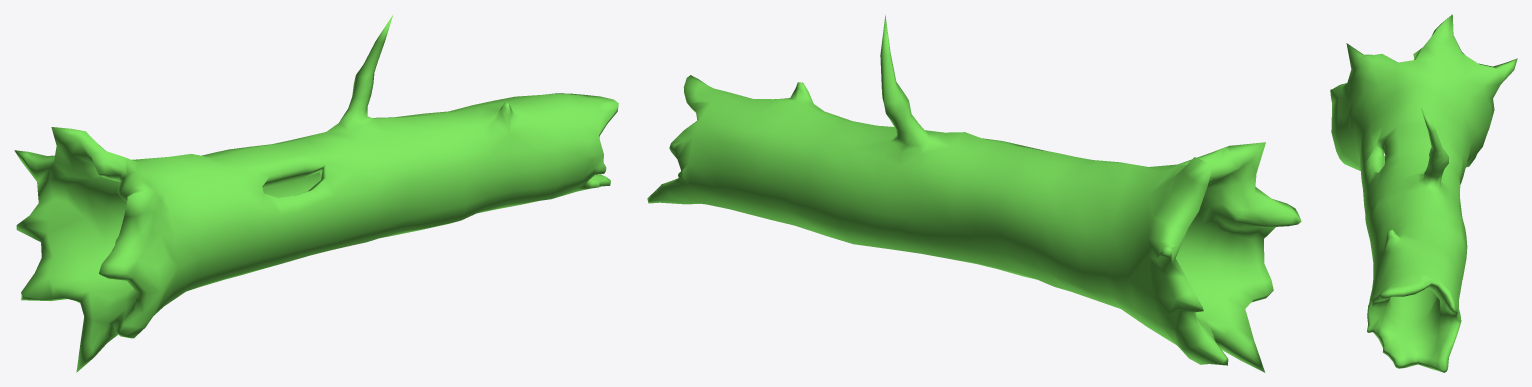
File: DryTree_2.fbx
3 renders of one model, left to right at view 1: azimuth 30°, elevation 25°; view 2: azimuth 150°, elevation 25°; view 3: azimuth 270°, elevation 25°, orthographic. The views are drawn at different scales.
Visible parts, largest first — view 1: DryTree_2_LOD0; view 2: DryTree_2_LOD0; view 3: DryTree_2_LOD0.
Part boxes in pixels (x1,y1,x2,y2): DryTree_2_LOD0: [14, 15, 618, 372]; DryTree_2_LOD0: [647, 15, 1301, 372]; DryTree_2_LOD0: [1330, 14, 1517, 372].
Size of what is drawn, in the model's own units: 949 by 434 by 330.
